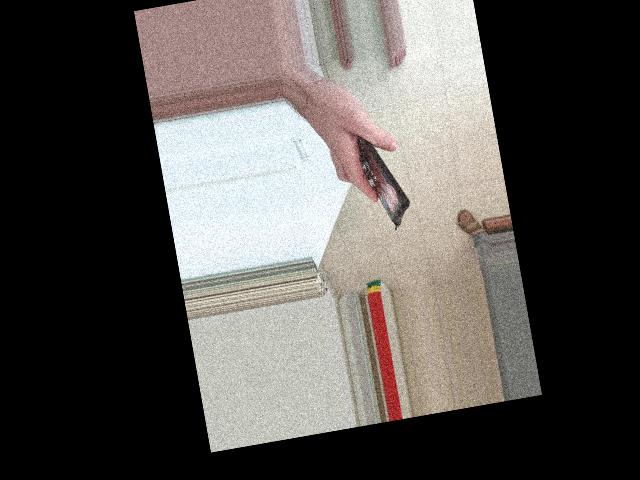chocolate: (340, 118, 415, 237)
